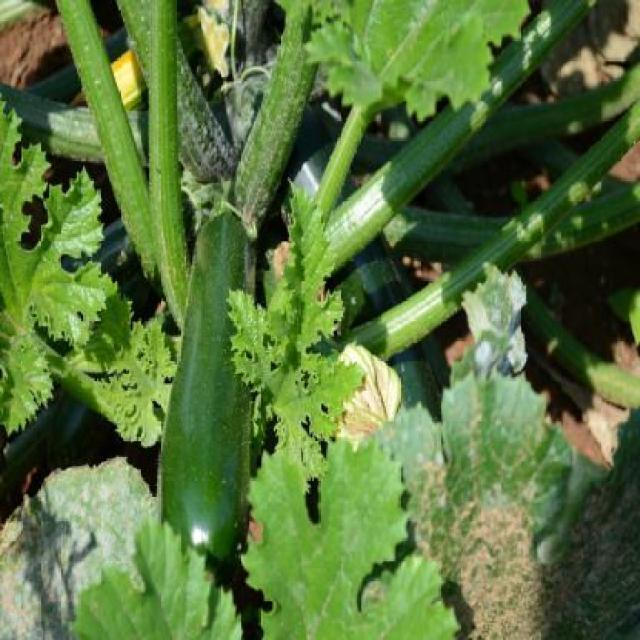Zucchini: (152, 221, 270, 634)
